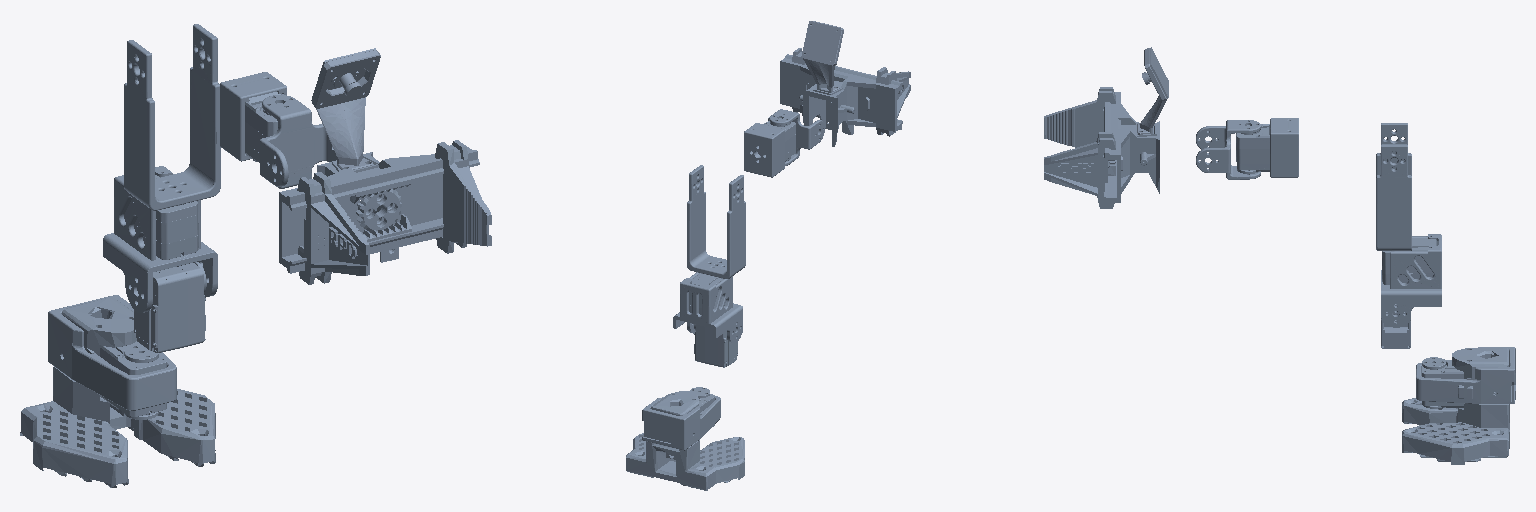
The robot description file, URDF, robot "sp7":
<?xml version="1.0" ?><!-- =================================================================================== --><!-- |    This document was autogenerated by xacro from /home/rpuser1/sp7_ros/sp7_description/urdf/sp7.urdf.xacro | --><!-- |    EDITING THIS FILE BY HAND IS NOT RECOMMENDED                                 | --><!-- =================================================================================== --><robot name="sp7"><link name="world"/><joint name="world_base_joint" type="fixed"><parent link="world"/><child link="base_link"/></joint><link name="base_link"><inertial><origin rpy="1.570796 0 0" xyz="-0.000009 -0.023421 0.021496"/><mass value="0.12759736"/><inertia ixx="0.00011632819" ixy="2.9716816e-9" ixz="-2.9733783e-8" iyy="0.00015097775" iyz="0.000020250336" izz="0.00014205044"/></inertial><visual><origin rpy="1.570796 0 0" xyz="0 -0.0084 0"/><geometry><mesh filename="package://sp7_description/meshes/base_link.stl"/></geometry><material name="base_linkmat"><color rgba="0.576471 0.639216 0.721569 1"/></material></visual><collision><origin rpy="1.570796 0 0" xyz="0 -0.0084 0"/><geometry><mesh filename="package://sp7_description/meshes/base_link.stl"/></geometry></collision></link><link name="Base_motor_holder_SO101"><inertial><origin rpy="1.570796 0 0" xyz="-0.000245 -0.021021 0.051534"/><mass value="0.024657397"/><inertia ixx="0.000018596864" ixy="-6.1668834e-9" ixz="-5.0341926e-7" iyy="0.000023828418" iyz="0.0000018693754" izz="0.0000087604052"/></inertial><visual><origin rpy="1.570796 0 0" xyz="0 -0.0084 0"/><geometry><mesh filename="package://sp7_description/meshes/Base_motor_holder_SO101.stl"/></geometry><material name="Base_motor_holder_SO101_mat"><color rgba="0.576471 0.639216 0.721569 1"/></material></visual><collision><origin rpy="1.570796 0 0" xyz="0 -0.0084 0"/><geometry><mesh filename="package://sp7_description/meshes/Base_motor_holder_SO101.stl"/></geometry></collision></link><link name="servo"><inertial><origin rpy="0 0 0" xyz="-0.000147 -0.039561 0.046823"/><mass value="0.1145294"/><inertia ixx="0.000027865919" ixy="2.0889725e-7" ixz="-3.3765075e-8" iyy="0.000014050085" iyz="3.7259091e-7" izz="0.000023947903"/></inertial><visual><origin rpy="0 0 0" xyz="0 -0.0464 0"/><geometry><mesh filename="package://sp7_description/meshes/servo.stl"/></geometry><material name="servo_mat"><color rgba="0.576471 0.639216 0.721569 1"/></material></visual><collision><origin rpy="0 0 0" xyz="0 -0.0464 0"/><geometry><mesh filename="package://sp7_description/meshes/servo.stl"/></geometry></collision></link><link name="link"><inertial><origin rpy="1.570796 0 1.570796" xyz="-0.000163 -0.03131 0.057924"/><mass value="0.071538664"/><inertia ixx="0.000045428699" ixy="0.0000047192049" ixz="-6.770136e-9" iyy="0.000021386507" iyz="3.7351443e-7" izz="0.00005079849"/></inertial><visual><origin rpy="1.570796 0 1.570796" xyz="0 -0.0179 0.0613"/><geometry><mesh filename="package://sp7_description/meshes/link.stl"/></geometry><material name="linkmat"><color rgba="0.576471 0.639216 0.721569 1"/></material></visual><collision><origin rpy="1.570796 0 1.570796" xyz="0 -0.0179 0.0613"/><geometry><mesh filename="package://sp7_description/meshes/link.stl"/></geometry></collision></link><link name="servo_2"><inertial><origin rpy="-1.570796 0 1.570796" xyz="0.000019 -0.039152 0.10582"/><mass value="0.1148539"/><inertia ixx="0.000027965837" ixy="2.090871e-7" ixz="-3.3610683e-8" iyy="0.000014098215" iyz="3.7066498e-7" izz="0.000024000221"/></inertial><visual><origin rpy="-1.570796 0 1.570796" xyz="0 -0.039 0.107"/><geometry><mesh filename="package://sp7_description/meshes/servo_2.stl"/></geometry><material name="servo_2_mat"><color rgba="0.576471 0.639216 0.721569 1"/></material></visual><collision><origin rpy="-1.570796 0 1.570796" xyz="0 -0.039 0.107"/><geometry><mesh filename="package://sp7_description/meshes/servo_2.stl"/></geometry></collision></link><link name="link2"><inertial><origin rpy="0 0 0" xyz="0.001485 0.014286 0.022768"/><mass value="0.02228647"/><inertia ixx="0.000010415251" ixy="-6.9460705e-9" ixz="-1.8857589e-8" iyy="0.000010701689" iyz="-0.0000019024218" izz="0.000010698933"/></inertial><visual><origin rpy="0 0 0" xyz="0 0.039 -0.1197"/><geometry><mesh filename="package://sp7_description/meshes/link2.stl"/></geometry><material name="link2_mat"><color rgba="0.576471 0.639216 0.721569 1"/></material></visual><collision><origin rpy="0 0 0" xyz="0 0.039 -0.1197"/><geometry><mesh filename="package://sp7_description/meshes/link2.stl"/></geometry></collision></link><link name="Servo_3"><inertial><origin rpy="0 0 0" xyz="0.001033 0.012493 0.036037"/><mass value="0.11378142"/><inertia ixx="0.000025768357" ixy="3.849128e-7" ixz="4.1732631e-8" iyy="0.000011986491" iyz="9.5991963e-8" izz="0.000023927633"/></inertial><visual><origin rpy="0 0 0" xyz="0 0.039 -0.1197"/><geometry><mesh filename="package://sp7_description/meshes/Servo_3.stl"/></geometry><material name="Servo_3_mat"><color rgba="0.576471 0.639216 0.721569 1"/></material></visual><collision><origin rpy="0 0 0" xyz="0 0.039 -0.1197"/><geometry><mesh filename="package://sp7_description/meshes/Servo_3.stl"/></geometry></collision></link><link name="link3"><inertial><origin rpy="0 0 0" xyz="0.001083 -0.001415 0.035077"/><mass value="0.025950315"/><inertia ixx="0.000023218089" ixy="3.446205e-16" ixz="-8.3729908e-13" iyy="0.000031143385" iyz="2.5893321e-13" izz="0.000011259638"/></inertial><visual><origin rpy="0 0 0" xyz="0 0.039 -0.1745"/><geometry><mesh filename="package://sp7_description/meshes/link3.stl"/></geometry><material name="link3_mat"><color rgba="0.576471 0.639216 0.721569 1"/></material></visual><collision><origin rpy="0 0 0" xyz="0 0.039 -0.1745"/><geometry><mesh filename="package://sp7_description/meshes/link3.stl"/></geometry></collision></link><link name="link4"><inertial><origin rpy="0 0 0" xyz="0.000905 -0.037016 0.006965"/><mass value="0.1195613"/><inertia ixx="0.000092519632" ixy="-9.5449613e-7" ixz="3.5284881e-7" iyy="0.000031324872" iyz="0.000016775939" izz="0.000080669997"/></inertial><visual><origin rpy="0 0 0" xyz="0 0.0405 -0.256"/><geometry><mesh filename="package://sp7_description/meshes/link4.stl"/></geometry><material name="link4_mat"><color rgba="0.576471 0.639216 0.721569 1"/></material></visual><collision><origin rpy="0 0 0" xyz="0 0.0405 -0.256"/><geometry><mesh filename="package://sp7_description/meshes/link4.stl"/></geometry></collision></link><link name="link5"><inertial><origin rpy="0 0 3.141593" xyz="-0.000014 0.022819 0.000033"/><mass value="0.057002269"/><inertia ixx="0.000022826253" ixy="-3.9091477e-8" ixz="-5.0646932e-8" iyy="0.000014087523" iyz="0.000001846648" izz="0.000015339383"/></inertial><visual><origin rpy="0 0 3.141593" xyz="0.002 -0.117 -0.255"/><geometry><mesh filename="package://sp7_description/meshes/link5.stl"/></geometry><material name="link5_mat"><color rgba="0.576471 0.639216 0.721569 1"/></material></visual><collision><origin rpy="0 0 3.141593" xyz="0.002 -0.117 -0.255"/><geometry><mesh filename="package://sp7_description/meshes/link5.stl"/></geometry></collision></link><link name="link6"><inertial><origin rpy="0 1.570796 0" xyz="0 0.016497 0.000502"/><mass value="0.011284646"/><inertia ixx="0.0000033179958" ixy="3.9140779e-10" ixz="1.259751e-14" iyy="0.0000040106815" iyz="-9.2556589e-11" izz="0.0000031915702"/></inertial><visual><origin rpy="0 1.570796 0" xyz="0 0.0162 0.0005"/><geometry><mesh filename="package://sp7_description/meshes/link6.stl"/></geometry><material name="link6_mat"><color rgba="0.576471 0.639216 0.721569 1"/></material></visual><collision><origin rpy="0 1.570796 0" xyz="0 0.0162 0.0005"/><geometry><mesh filename="package://sp7_description/meshes/link6.stl"/></geometry></collision></link><link name="link7"><inertial><origin rpy="0 0 3.141593" xyz="0.000009 0.03484 0.006589"/><mass value="0.25723233"/><inertia ixx="0.000167591" ixy="3.3246057e-7" ixz="8.0137921e-8" iyy="0.000060936832" iyz="0.000030050863" izz="0.00014780221"/></inertial><visual><origin rpy="0 0 3.141593" xyz="0 0.0325 0.0105"/><geometry><mesh filename="package://sp7_description/meshes/link7.stl"/></geometry><material name="link7_mat"><color rgba="0.576471 0.639216 0.721569 1"/></material></visual><collision><origin rpy="0 0 3.141593" xyz="0 0.0325 0.0105"/><geometry><mesh filename="package://sp7_description/meshes/link7.stl"/></geometry></collision></link><joint name="base_linkto_Base_motor_holder_SO101" type="fixed"><parent link="base_link"/><child link="Base_motor_holder_SO101"/><origin rpy="0 0 0" xyz="0 0 0"/></joint><joint name="Base_motor_holder_SO101_to_servo" type="fixed"><parent link="Base_motor_holder_SO101"/><child link="servo"/><origin rpy="0 0 0" xyz="0 0 0"/></joint><joint name="joint1" type="revolute"><parent link="servo"/><child link="link"/><origin rpy="0 0 0" xyz="0 -0.0534 0"/><axis xyz="0 0 1"/><limit effort="10" lower="-1.570796" upper="1.570796" velocity="1"/></joint><joint name="linkto_servo_2" type="fixed"><parent link="link"/><child link="servo_2"/><origin rpy="0 0 0" xyz="0 0.0084 0"/></joint><joint name="joint2" type="revolute"><parent link="servo_2"/><child link="link2"/><origin rpy="0 0 0" xyz="0 -0.039 0.1197"/><axis xyz="1 0 0"/><limit effort="10" lower="-1.570796" upper="1.570796" velocity="1"/></joint><joint name="link2_to_Servo_3" type="fixed"><parent link="link2"/><child link="Servo_3"/><origin rpy="0 0 0" xyz="0 0 0"/></joint><joint name="joint3" type="revolute"><parent link="Servo_3"/><child link="link3"/><origin rpy="0 0 0" xyz="0 0 0.0547"/><axis xyz="0 0 1"/><limit effort="10" lower="-1.570796" upper="1.570796" velocity="1"/></joint><joint name="joint4" type="revolute"><parent link="link3"/><child link="link4"/><origin rpy="0 0 0" xyz="0 -0.0015 0.0813"/><axis xyz="1 0 0"/><limit effort="10" lower="-3.141593" upper="1.047198" velocity="1"/></joint><joint name="joint5" type="revolute"><parent link="link4"/><child link="link5"/><origin rpy="0 0 3.141593" xyz="0.002 -0.0765 0.0005"/><axis xyz="0 1 0"/><limit effort="10" lower="-1.570796" upper="1.570796" velocity="1"/></joint><joint name="joint6" type="revolute"><parent link="link5"/><child link="link6"/><origin rpy="3.141593 0 3.141593" xyz="0 0.041 0"/><axis xyz="0 0 1"/><limit effort="10" lower="-1.570796" upper="1.570796" velocity="1"/></joint><joint name="joint7" type="revolute"><parent link="link6"/><child link="link7"/><origin rpy="0 0 0" xyz="0 0.032 0"/><axis xyz="1 0 0"/><limit effort="10" lower="-1.570796" upper="1.570796" velocity="1"/></joint><link name="gripper_base_link"><inertial><origin rpy="0 -1.570796 1.570796" xyz="-0.000298 -0.00427 -0.000258"/><mass value="0.11571242"/><inertia ixx="0.00011231067" ixy="6.9199375e-11" ixz="7.8644865e-7" iyy="0.000039792669" iyz="-1.630973e-9" izz="0.00012696535"/></inertial><visual><origin rpy="0 -1.570796 1.570796" xyz="0.0597 0.01 -0.0235"/><geometry><mesh filename="package://sp7_description/meshes/gripper_base_link.stl"/></geometry><material name="gripper_base_link_mat"><color rgba="0.576471 0.639216 0.721569 1"/></material></visual><collision><origin rpy="0 -1.570796 1.570796" xyz="0.0597 0.01 -0.0235"/><geometry><mesh filename="package://sp7_description/meshes/gripper_base_link.stl"/></geometry></collision></link><link name="gripper_right_link"><inertial><origin rpy="0 -1.570796 1.570796" xyz="-0.037623 0.016491 0.002876"/><mass value="0.03363578"/><inertia ixx="0.00001259369" ixy="0.0000018873568" ixz="-0.0000011455943" iyy="0.000014720047" iyz="0.0000013619548" izz="0.000014721322"/></inertial><visual><origin rpy="0 -1.570796 1.570796" xyz="0.0597 0.01 -0.0235"/><geometry><mesh filename="package://sp7_description/meshes/gripper_right_link.stl"/></geometry><material name="gripper_right_link_mat"><color rgba="0.576471 0.639216 0.721569 1"/></material></visual><collision><origin rpy="0 -1.570796 1.570796" xyz="0.0597 0.01 -0.0235"/><geometry><mesh filename="package://sp7_description/meshes/gripper_right_link.stl"/></geometry></collision></link><link name="gripper_left_link"><inertial><origin rpy="0 -1.570796 1.570796" xyz="0.036773 0.016491 -0.002626"/><mass value="0.033635767"/><inertia ixx="0.000012593689" ixy="0.0000018873574" ixz="0.0000011455939" iyy="0.000014720043" iyz="-0.0000013619555" izz="0.000014721321"/></inertial><visual><origin rpy="0 -1.570796 1.570796" xyz="0.0597 0.01 -0.0235"/><geometry><mesh filename="package://sp7_description/meshes/gripper_left_link.stl"/></geometry><material name="gripper_left_link_mat"><color rgba="0.576471 0.639216 0.721569 1"/></material></visual><collision><origin rpy="0 -1.570796 1.570796" xyz="0.0597 0.01 -0.0235"/><geometry><mesh filename="package://sp7_description/meshes/gripper_left_link.stl"/></geometry></collision></link><link name="camera_link"><inertial><origin rpy="0 0 1.570796" xyz="0 0.002186 0.037054"/><mass value="0.025515938"/><inertia ixx="0.000011181814" ixy="-2.0868131e-10" ixz="2.0324797e-7" iyy="0.0000098885489" iyz="9.0236676e-12" izz="0.0000027027225"/></inertial><visual><origin rpy="0 0 1.570796" xyz="0 0 -0.001"/><geometry><mesh filename="package://sp7_description/meshes/camera_link.stl"/></geometry><material name="camera_link_mat"><color rgba="0.580392 0.639216 0.721569 1"/></material></visual><collision><origin rpy="0 0 1.570796" xyz="0 0 -0.001"/><geometry><mesh filename="package://sp7_description/meshes/camera_link.stl"/></geometry></collision></link><joint name="gripper_base_joint" type="fixed"><parent link="link7"/><child link="gripper_base_link"/><origin rpy="0 0 0" xyz="0 0.0749 -0.001"/></joint><joint name="gripper_left_joint" type="prismatic"><parent link="gripper_base_link"/><child link="gripper_right_link"/><origin rpy="0 0 0" xyz="0 0 0"/><axis xyz="-1 0 0"/><limit effort="10" lower="-0.005" upper="0.0375" velocity="1"/></joint><joint name="gripper_right_joint" type="prismatic"><parent link="gripper_base_link"/><child link="gripper_left_link"/><origin rpy="0 0 0" xyz="0 0 0"/><axis xyz="1 0 0"/><limit effort="10" lower="-0.005" upper="0.0375" velocity="1"/><mimic joint="gripper_left_joint" multiplier="1" offset="0"/></joint><joint name="camera_mount" type="fixed"><parent link="gripper_base_link"/><child link="camera_link"/><origin rpy="0 3.141593 0" xyz="-0.001 -0.034 -0.016"/></joint><ros2_control name="SP7System" type="system"><hardware><plugin>mock_components/GenericSystem</plugin></hardware><joint name="joint1"><state_interface name="position"/><state_interface name="velocity"/><command_interface name="position"/><param name="id">1</param></joint><joint name="joint2"><state_interface name="position"/><state_interface name="velocity"/><command_interface name="position"/><param name="id">2</param></joint><joint name="joint3"><state_interface name="position"/><state_interface name="velocity"/><command_interface name="position"/><param name="id">3</param></joint><joint name="joint4"><state_interface name="position"/><state_interface name="velocity"/><command_interface name="position"/><param name="id">4</param></joint><joint name="joint5"><state_interface name="position"/><state_interface name="velocity"/><command_interface name="position"/><param name="id">5</param></joint><joint name="joint6"><state_interface name="position"/><state_interface name="velocity"/><command_interface name="position"/><param name="id">6</param></joint><joint name="joint7"><state_interface name="position"/><state_interface name="velocity"/><command_interface name="position"/><param name="id">7</param></joint><joint name="gripper_left_joint"><state_interface name="position"/><state_interface name="velocity"/><command_interface name="position"/><param name="id">8</param></joint></ros2_control></robot>

--- What the picture shows (computed from the rendered views, not written in the file) ---
3 views of the same robot in one strip: view 1: azimuth 30°, elevation 25°; view 2: azimuth 150°, elevation 25°; view 3: azimuth 270°, elevation 25° (orthographic).
Robot: sp7 — 17 links, 16 joints (7 revolute, 2 prismatic, 7 fixed); root link world; default pose: every joint at zero.
Visible links, largest first — view 1: base_link, link3, gripper_base_link, gripper_left_link, link2, Base_motor_holder_SO101, camera_link, servo_2, gripper_right_link, link6, link5, Servo_3 (+1 smaller); view 2: gripper_base_link, base_link, link3, link2, Base_motor_holder_SO101, link5, camera_link, servo_2, link6, gripper_left_link; view 3: base_link, link3, gripper_base_link, link2, link5, Base_motor_holder_SO101, gripper_right_link, gripper_left_link, link6, camera_link, servo, Servo_3 (+1 smaller).
Boxes of the visible links, bbox=[...] form: base_link: bbox=[20, 297, 215, 487]; link3: bbox=[124, 24, 220, 210]; gripper_base_link: bbox=[279, 147, 479, 273]; gripper_left_link: bbox=[297, 172, 411, 284]; link2: bbox=[103, 166, 217, 312]; Base_motor_holder_SO101: bbox=[48, 295, 176, 410]; camera_link: bbox=[311, 48, 380, 169]; servo_2: bbox=[134, 262, 206, 352]; gripper_right_link: bbox=[350, 140, 491, 253]; link6: bbox=[260, 95, 336, 188]; link5: bbox=[220, 72, 286, 162]; Servo_3: bbox=[124, 175, 198, 259]; gripper_base_link: bbox=[780, 54, 902, 146]; base_link: bbox=[626, 391, 744, 490]; link3: bbox=[687, 165, 745, 278]; link2: bbox=[673, 272, 742, 342]; Base_motor_holder_SO101: bbox=[642, 396, 720, 450]; link5: bbox=[744, 118, 795, 177]; camera_link: bbox=[801, 21, 843, 92]; servo_2: bbox=[694, 324, 737, 367]; link6: bbox=[768, 109, 824, 165]; gripper_left_link: bbox=[876, 67, 910, 136]; base_link: bbox=[1402, 348, 1509, 464]; link3: bbox=[1376, 123, 1411, 250]; gripper_base_link: bbox=[1104, 92, 1159, 205]; link2: bbox=[1381, 234, 1441, 327]; link5: bbox=[1236, 118, 1298, 177]; Base_motor_holder_SO101: bbox=[1416, 347, 1515, 403]; gripper_right_link: bbox=[1044, 132, 1115, 208]; gripper_left_link: bbox=[1044, 87, 1115, 175]; link6: bbox=[1196, 120, 1260, 179]; camera_link: bbox=[1137, 47, 1168, 134]; servo: bbox=[1422, 357, 1463, 408]; Servo_3: bbox=[1382, 238, 1436, 284].
Bounding box of the posed robot: 0.12 × 0.38 × 0.3389 m (x, y, z).
13 mesh visuals loaded from 16 distinct referenced files (13 binary STL); not drawn: 3 (reference not matched to a file when rendering).
